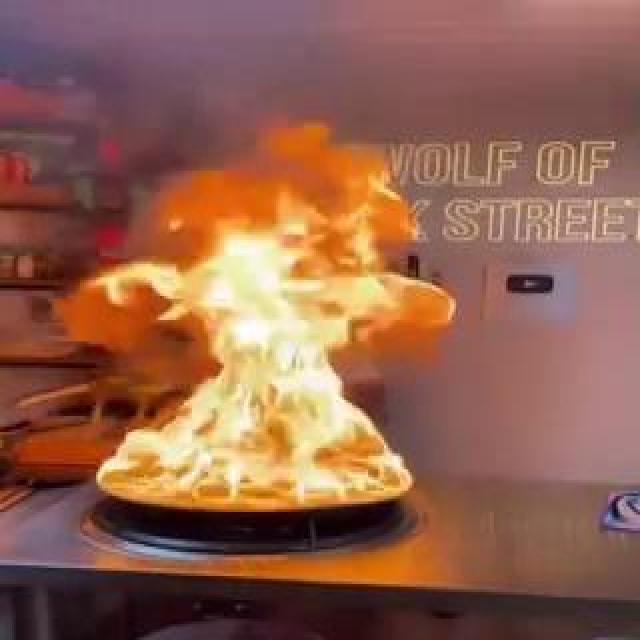Fire: (62, 158, 420, 518)
